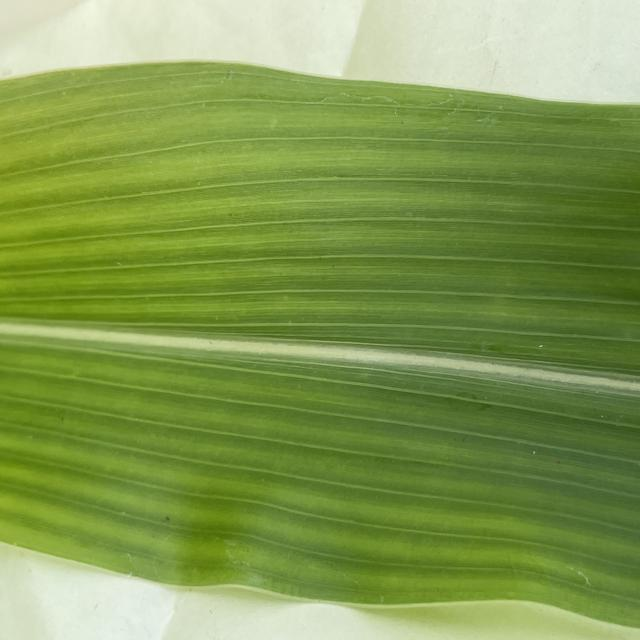millet_healthy: (0, 58, 640, 628)
